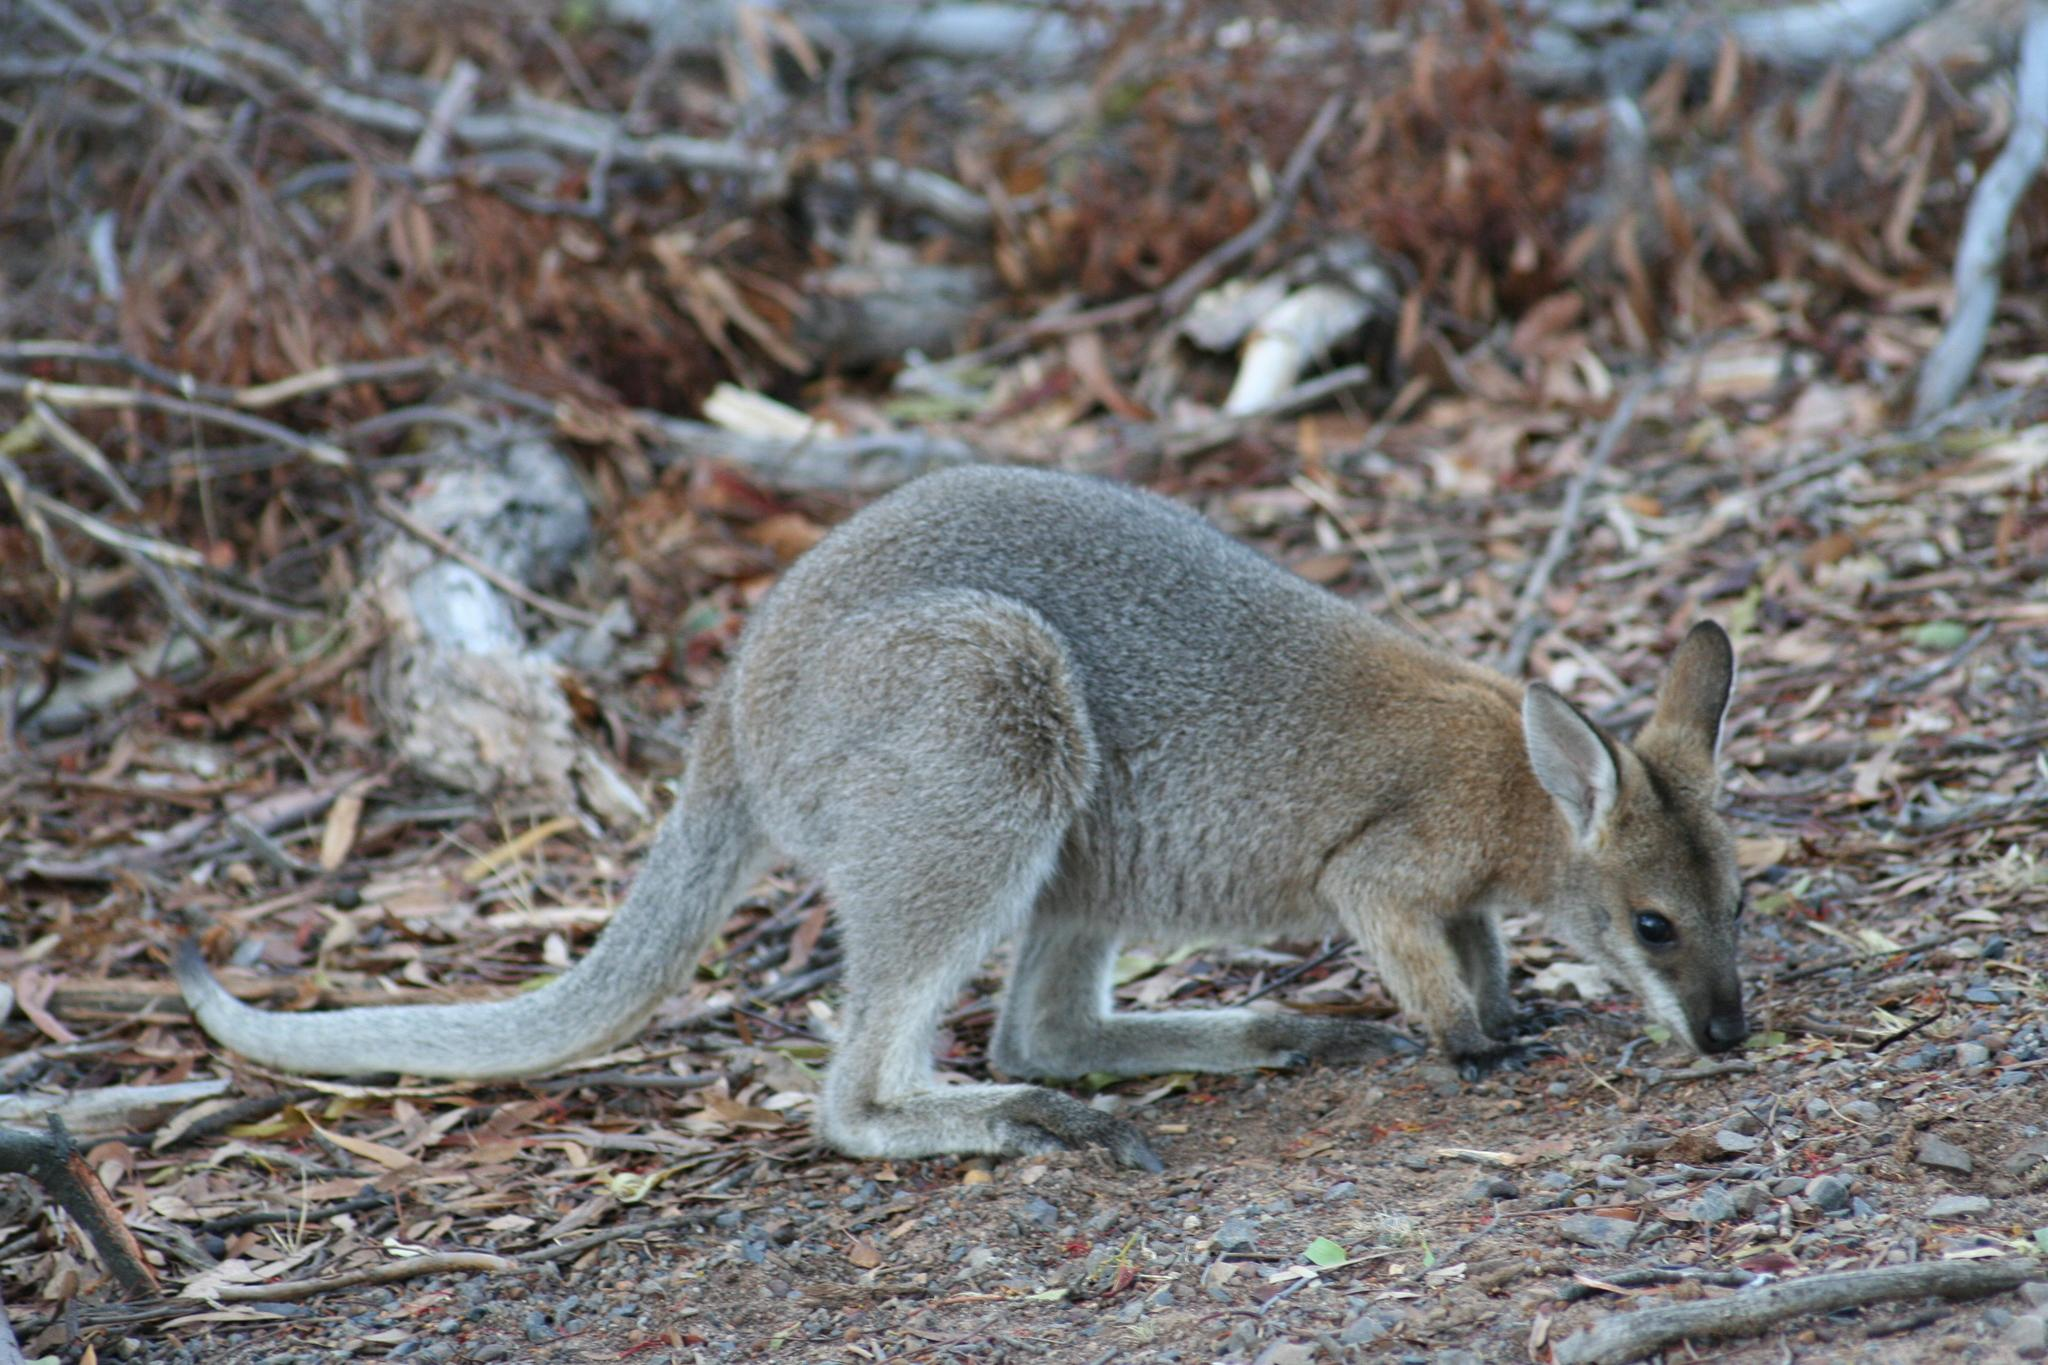Red-necked wallaby: (167, 463, 1768, 1170)
